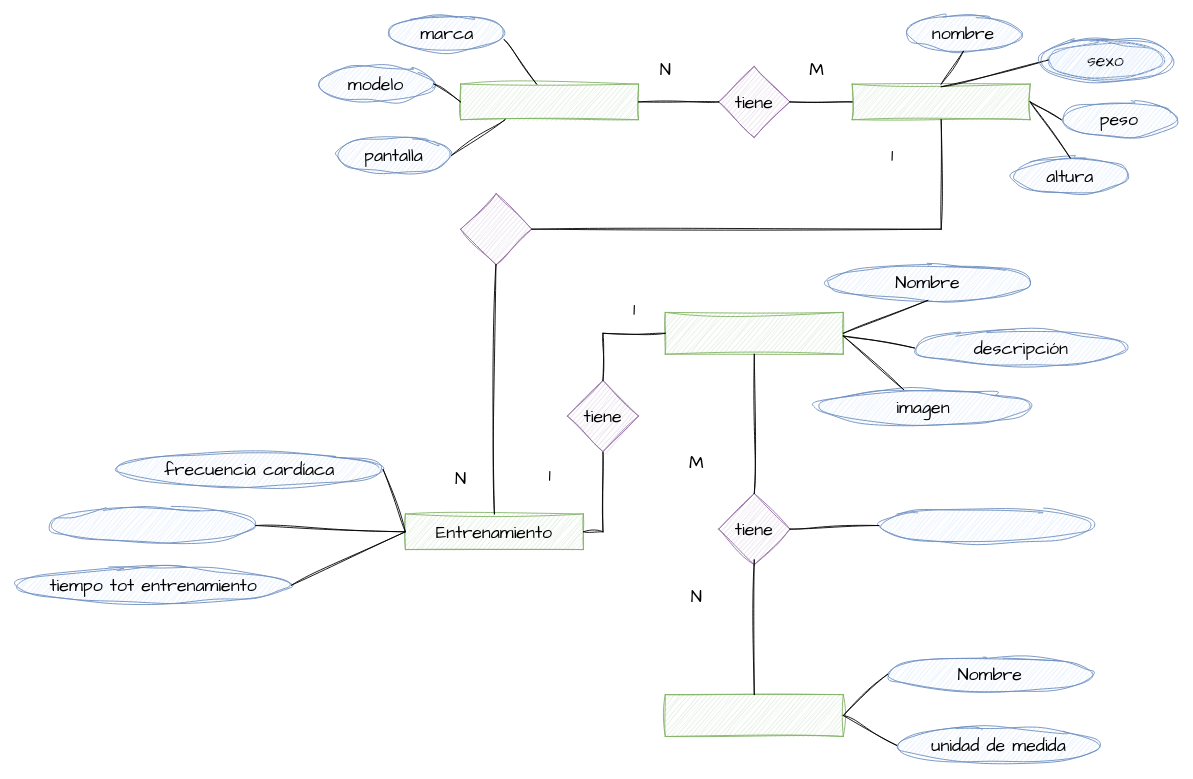
Some shapes in this 1193 by 779 pixel diagram are drawn without their labels. Each missing label, with the centre of its shape:
"calorías quemadas" goes at point 153,525.
"Deporte" goes at point 753,333.
"Dispositivo" goes at point 549,101.
"hace" goes at point 496,229.
"Métricas" goes at point 753,715.
"Usuario" goes at point 940,101.
"valor de la métrica" goes at point 985,525.
